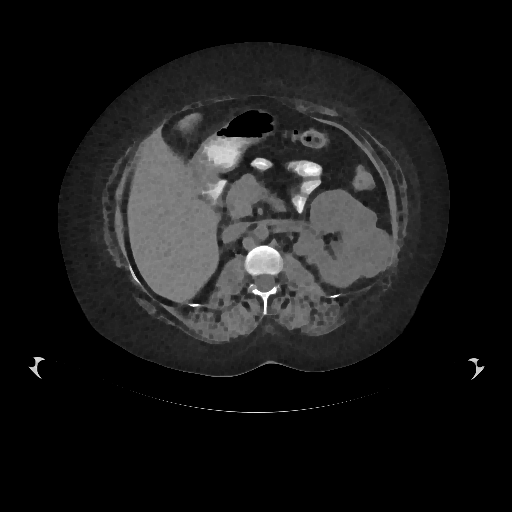Lesion: (342, 222, 394, 280)
